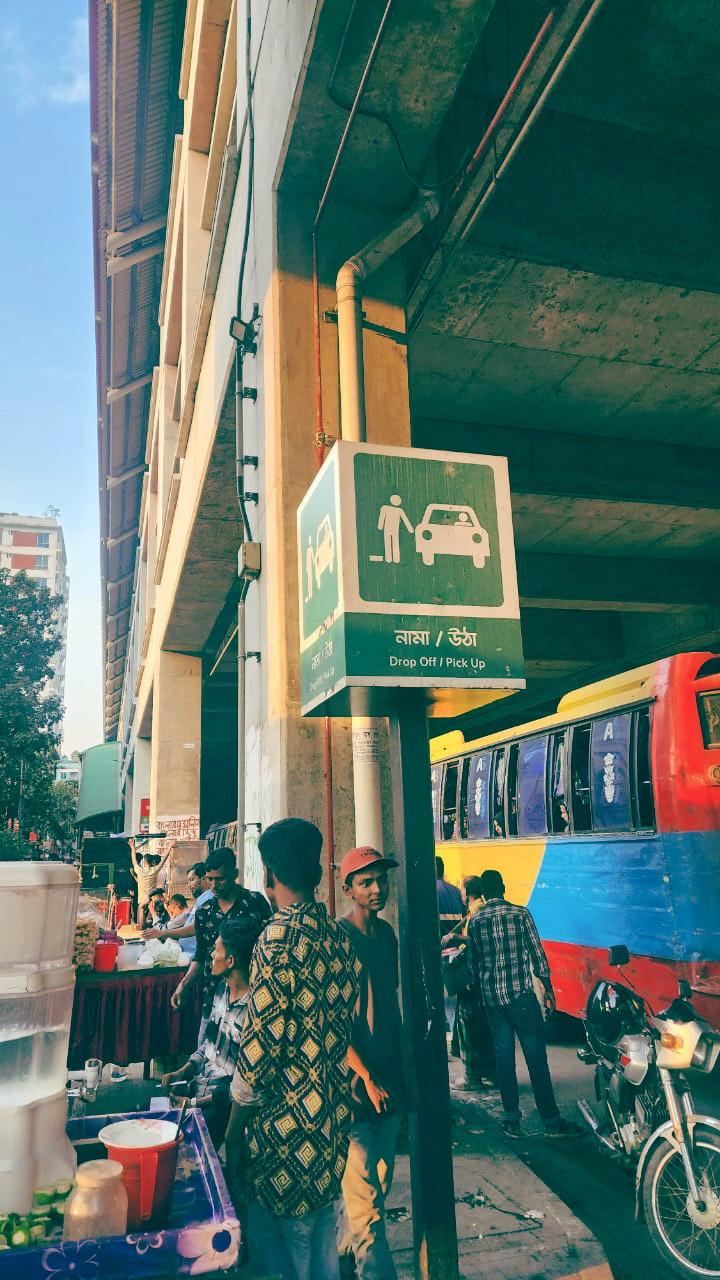Metro Dorp Up Pick up: (296, 444, 528, 701)
